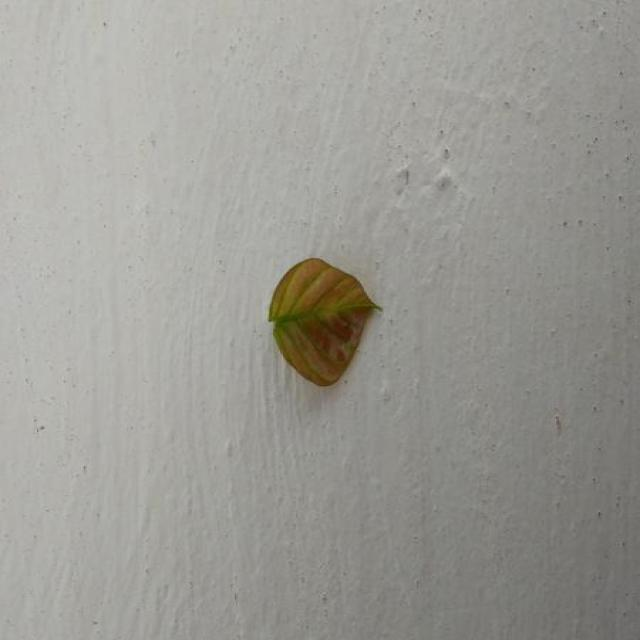leaf rust: (268, 259, 380, 386)
